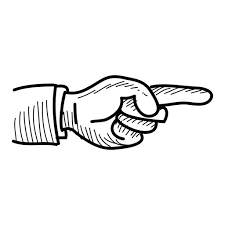hand: (53, 55, 220, 173)
